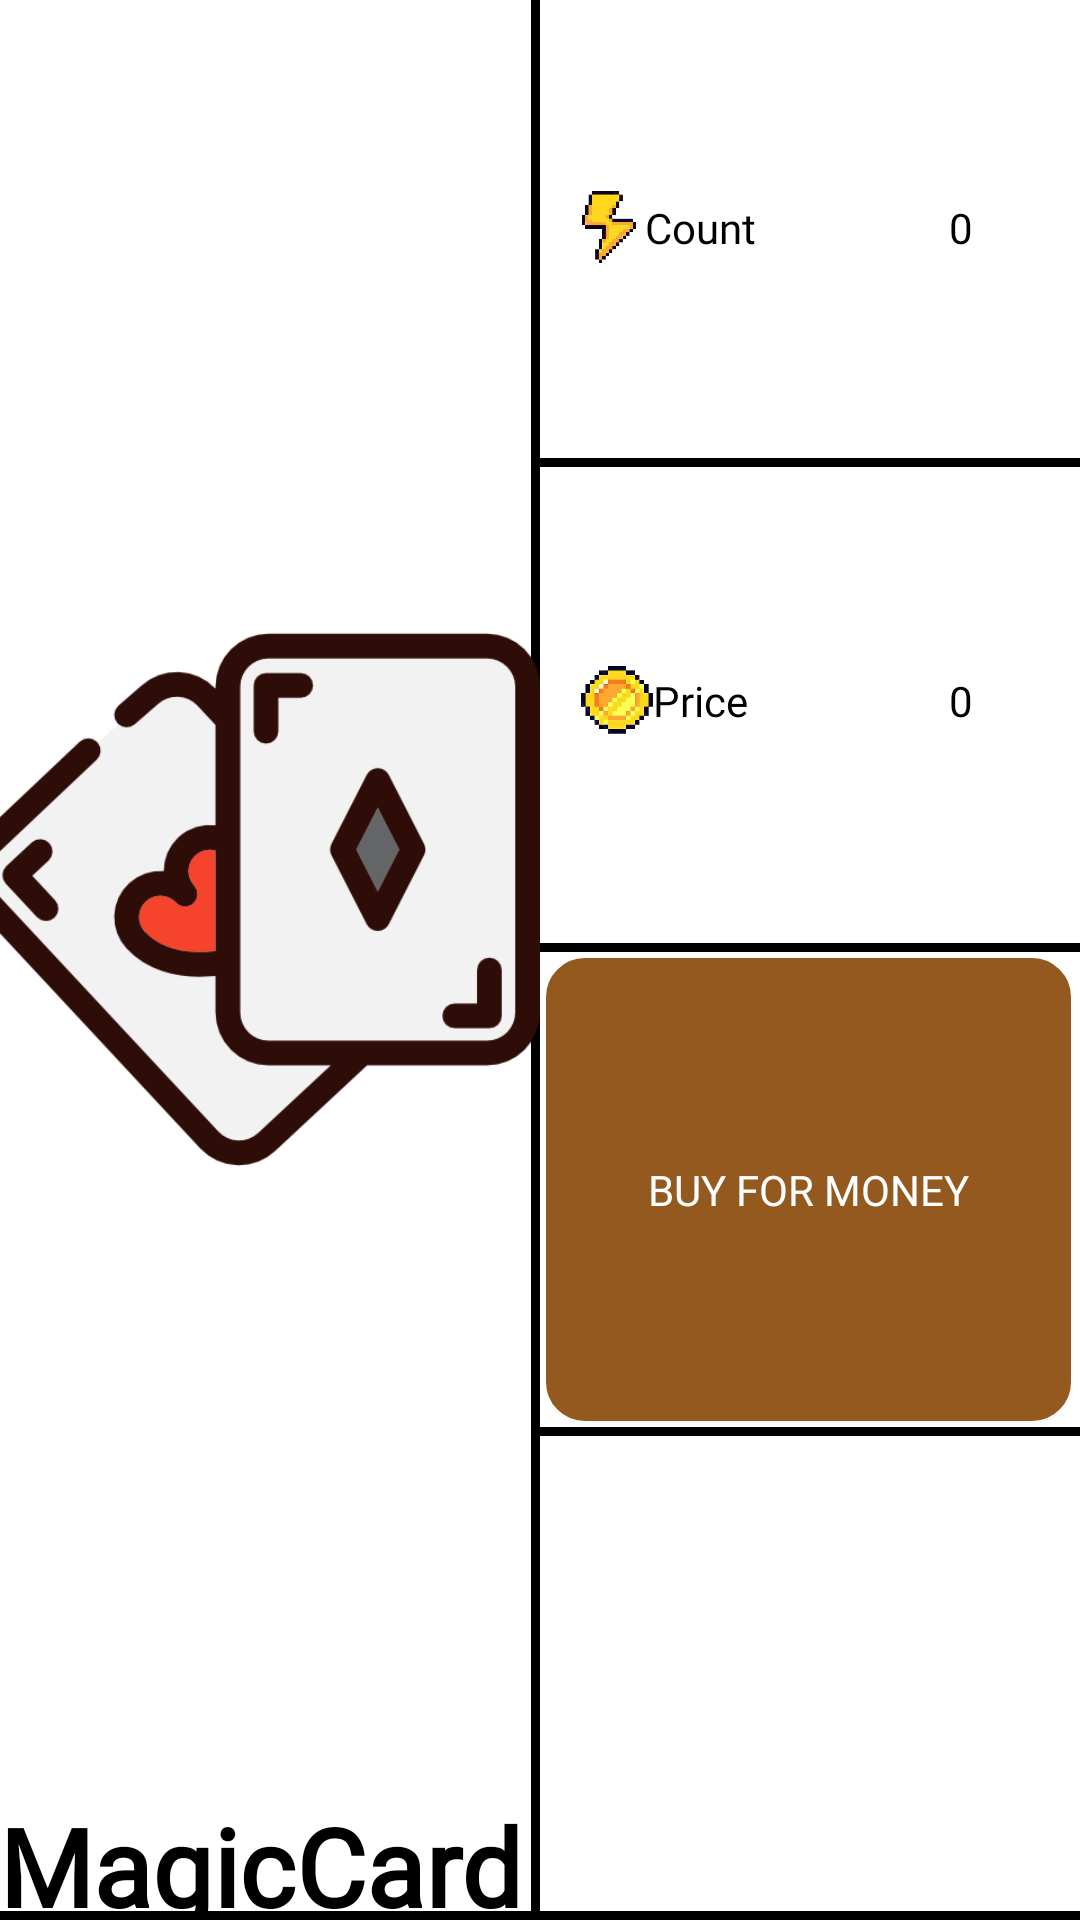

Where icons sit on this 1080×1920 app screen, as (x1, y1, x2, y2):
coin: (581, 666, 653, 734)
thunder: (582, 191, 636, 263)
